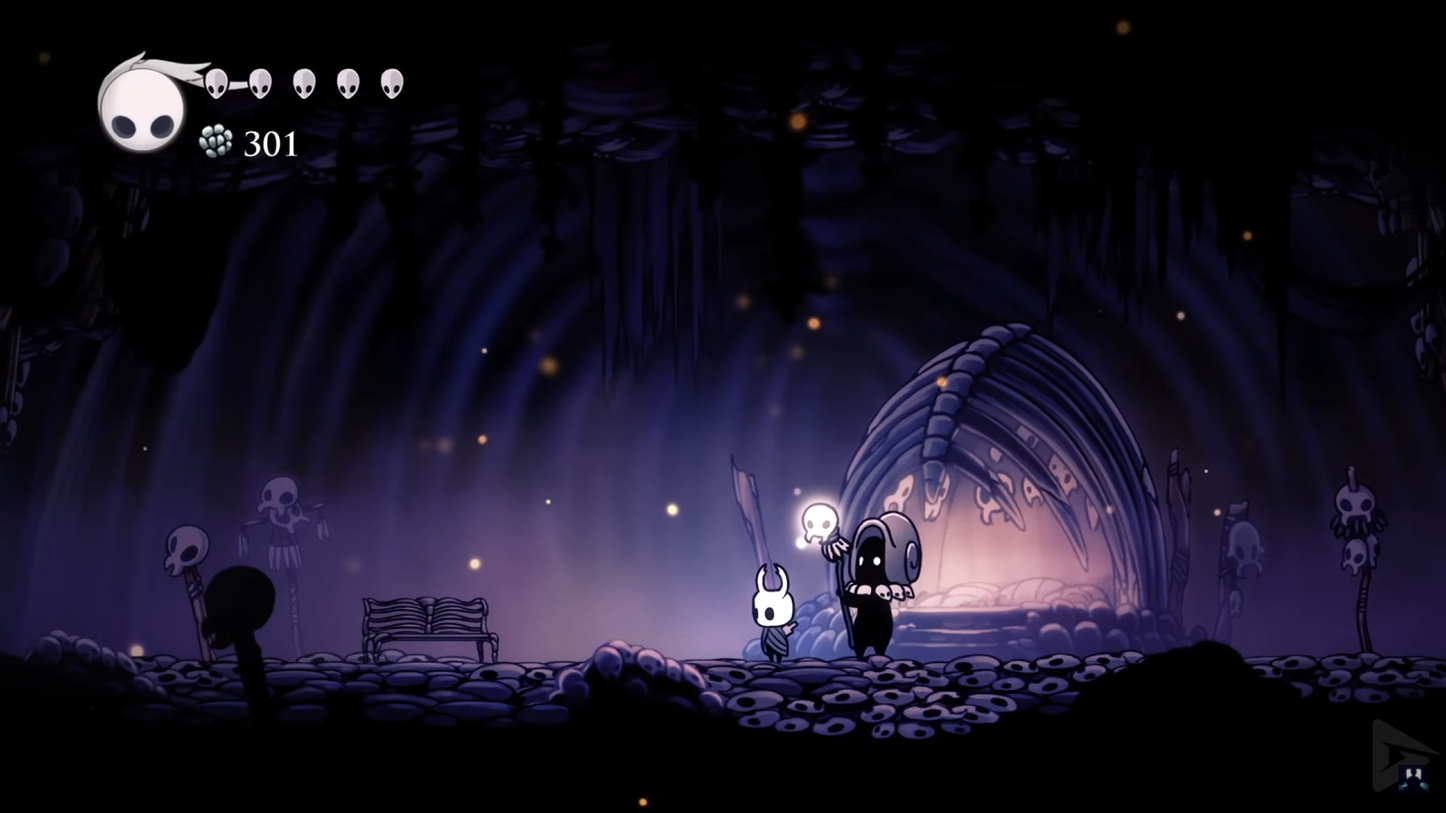HK: (745, 561, 804, 663)
